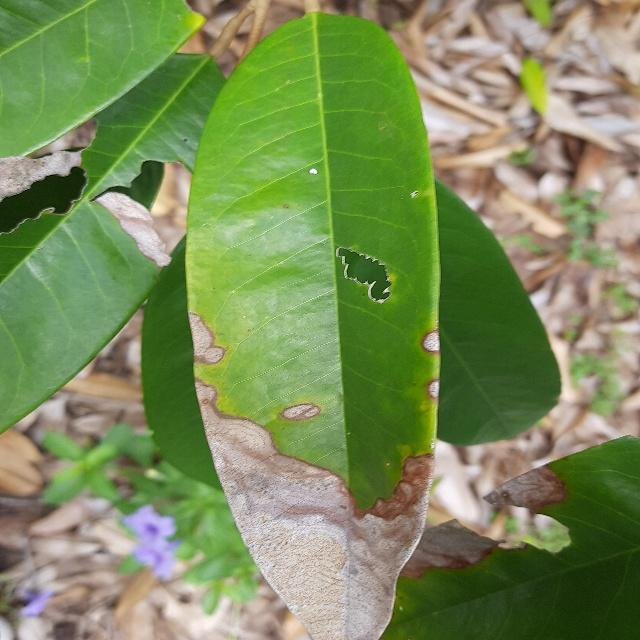Leaf Blight: (175, 3, 458, 640)
